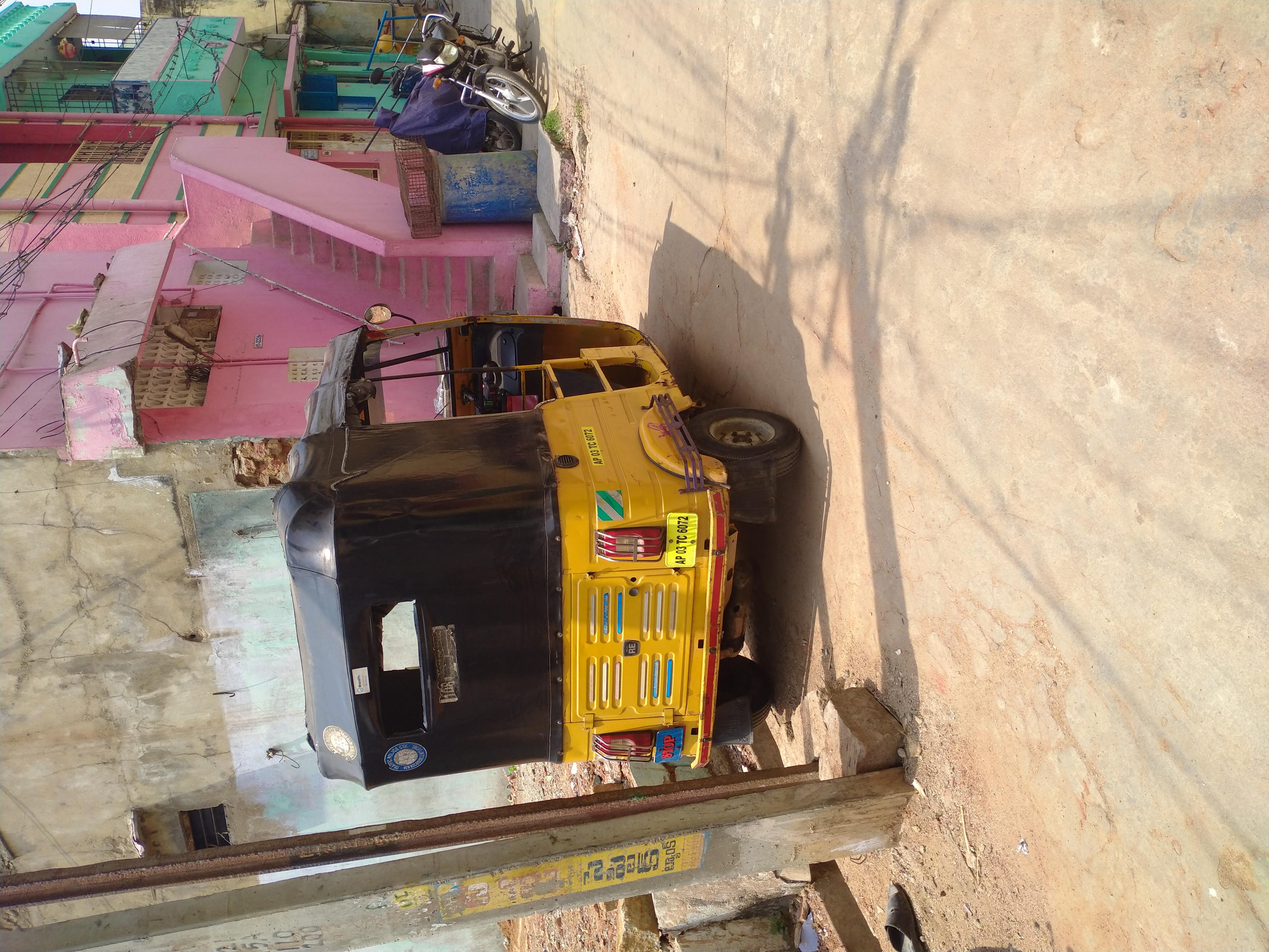Auto: (202, 203, 903, 624)
